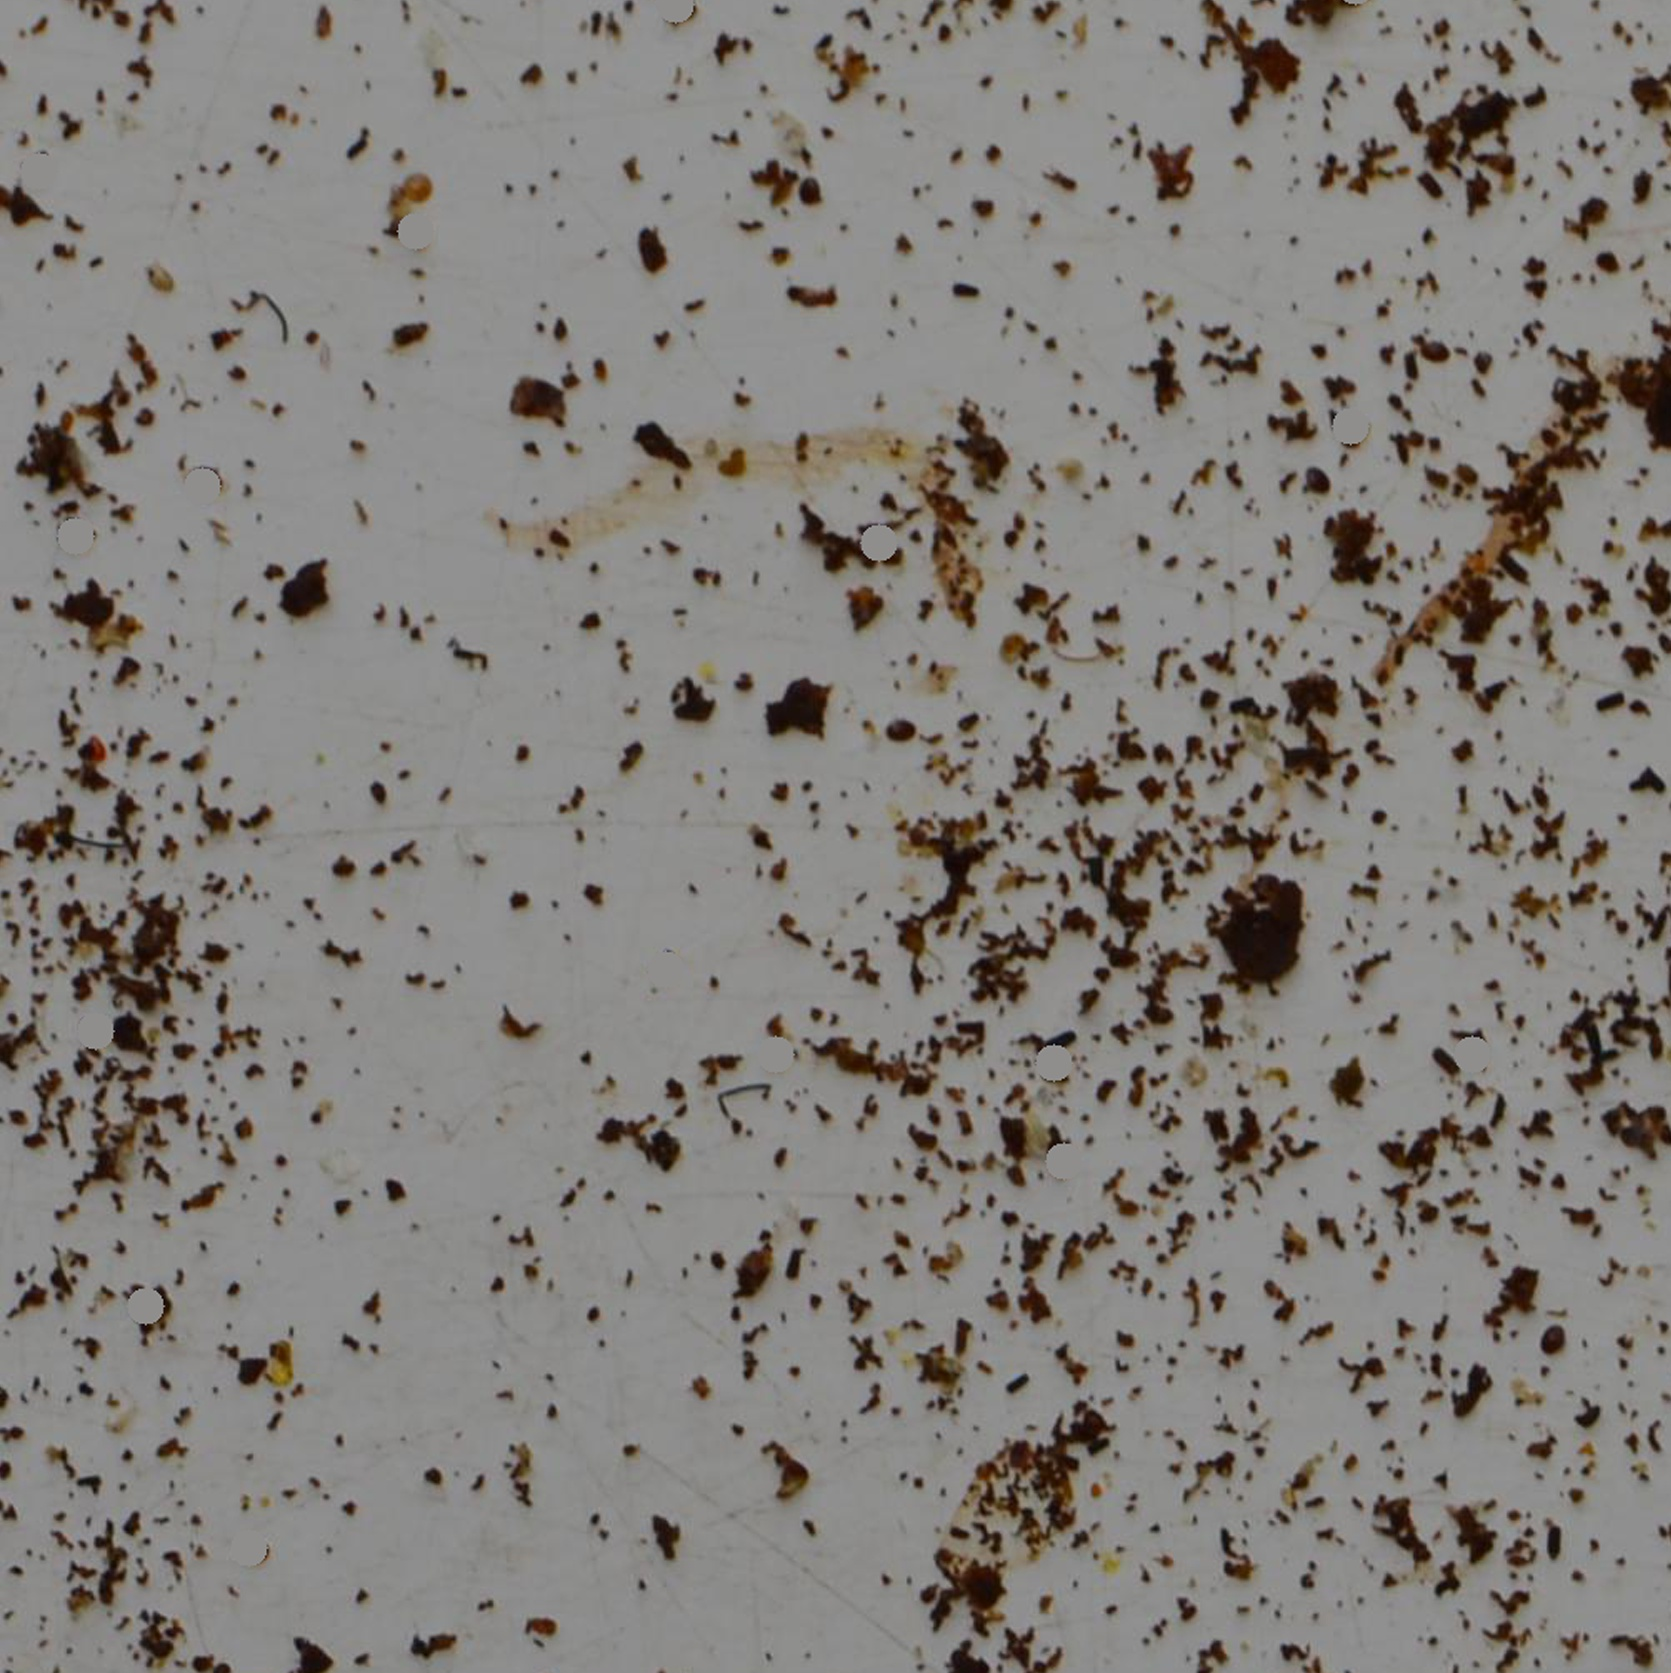Varroa: (1415, 335, 1454, 373), (1298, 453, 1334, 493), (891, 713, 926, 748), (797, 171, 831, 207), (1594, 243, 1628, 279), (1538, 1318, 1568, 1353)
